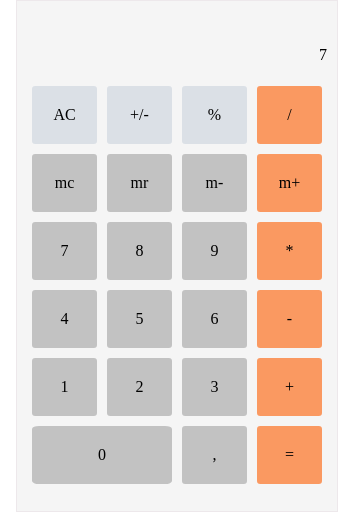
Test: Events Testing › testing functions › memory recall
Click the button "AC" at (64, 115), box [32,86,97,144]
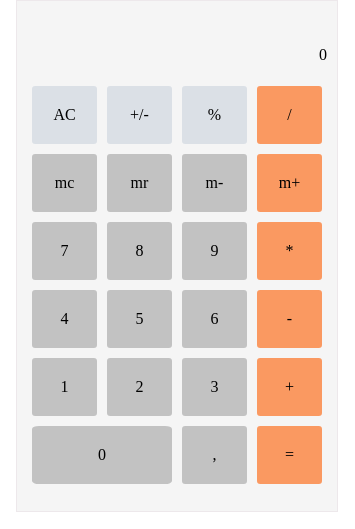
Click the button "7" at (64, 251), box [32,222,97,280]
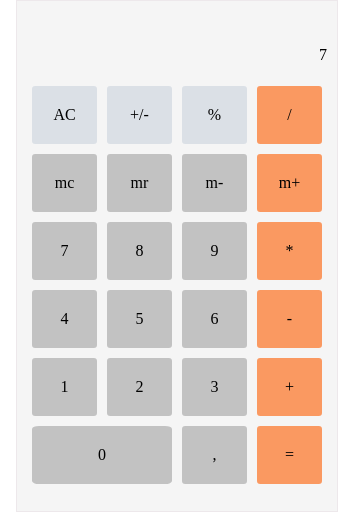
Click the button "m+" at (290, 183), box [257,154,322,212]
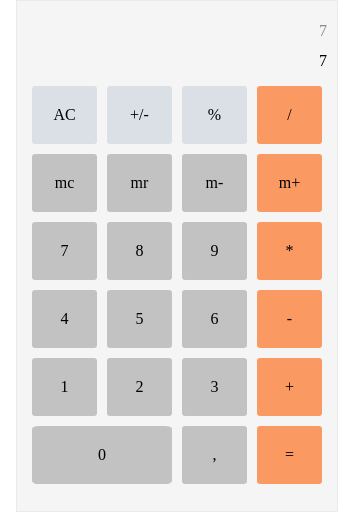
Click the button "0" at (102, 455), box [32,426,172,484]
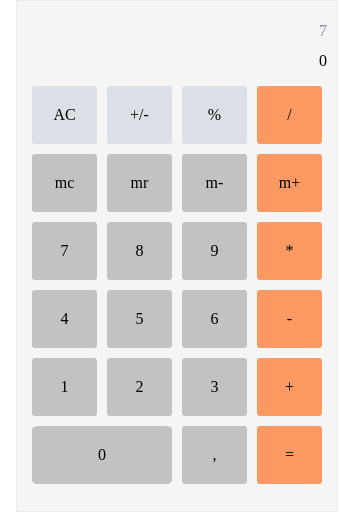
Click the button "mr" at (140, 183), box [107,154,172,212]
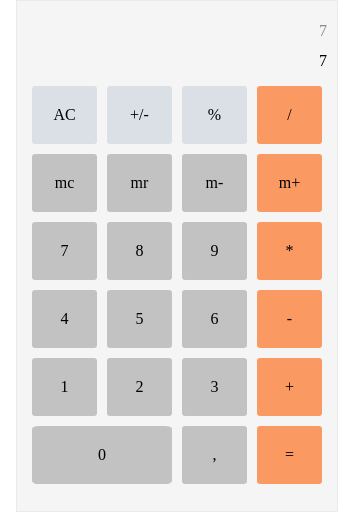
Result: the element with class "memory" reads "7" at [319,22,327,39]
Result: the 2nd element showing "7" is shown at [319,52,327,70]
